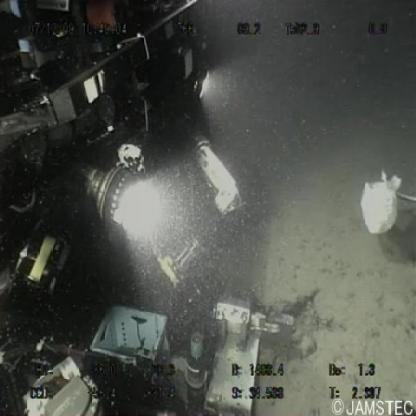Rov: (1, 1, 328, 414)
Rác: (353, 166, 404, 240)
